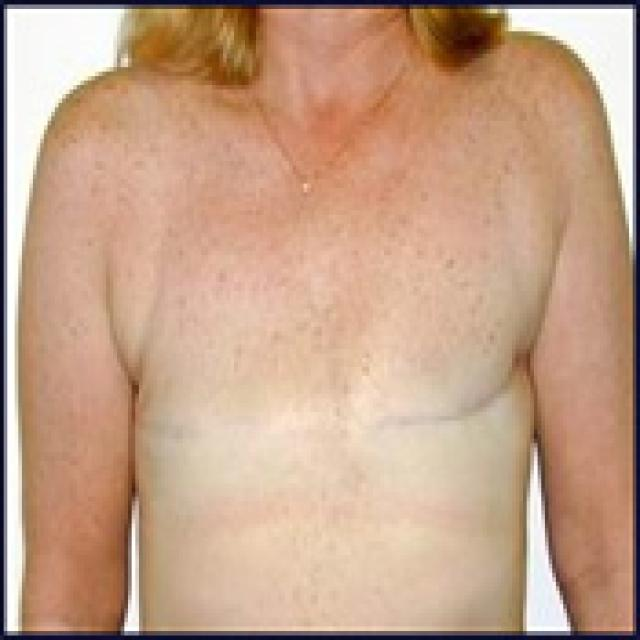Seno herido: (116, 244, 337, 496), (348, 247, 540, 499)
